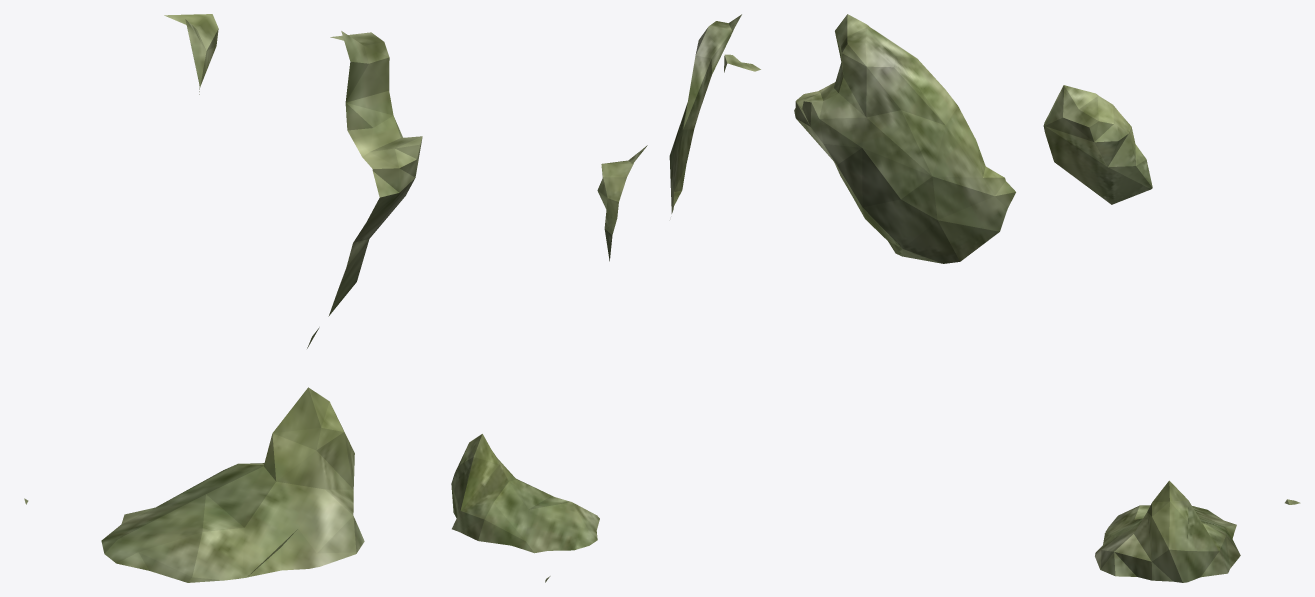
The picture shows the model from 3 angles, left to right: view 1: azimuth 30°, elevation 25°; view 2: azimuth 150°, elevation 25°; view 3: azimuth 270°, elevation 25°; orthographic projection. The views are drawn at different scales.
Bounding box in the file's own units: 0.8494 × 2.33 × 2.19.
1 material, 1 textured.
